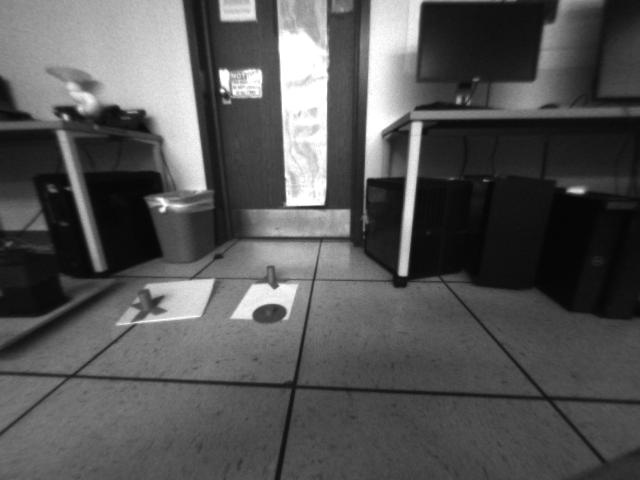X: (128, 289, 169, 321), (256, 266, 286, 288)
